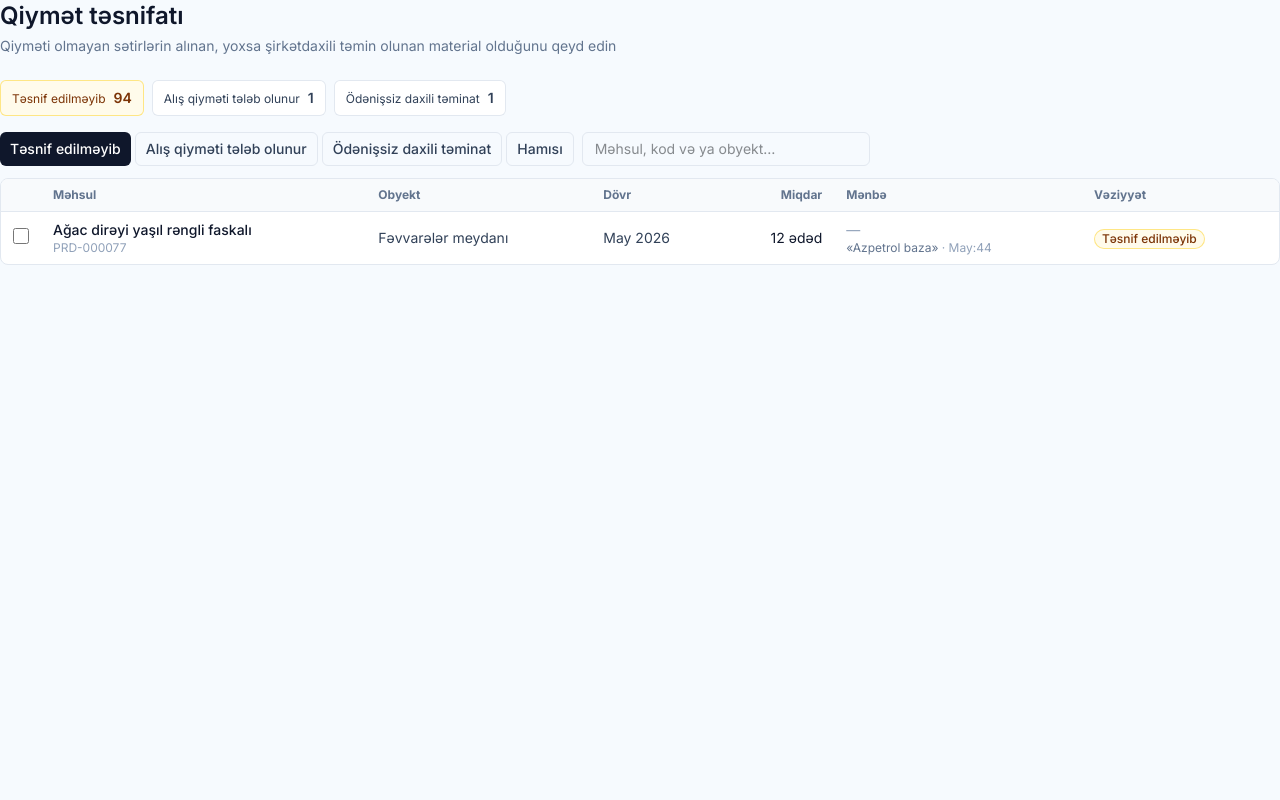
Test: deciding › names the lines before changing anything about them
This screenshot has width=1280, height=800.
Click the checkbox named "Ağac dirəyi": (21, 236) [13, 228, 29, 244]
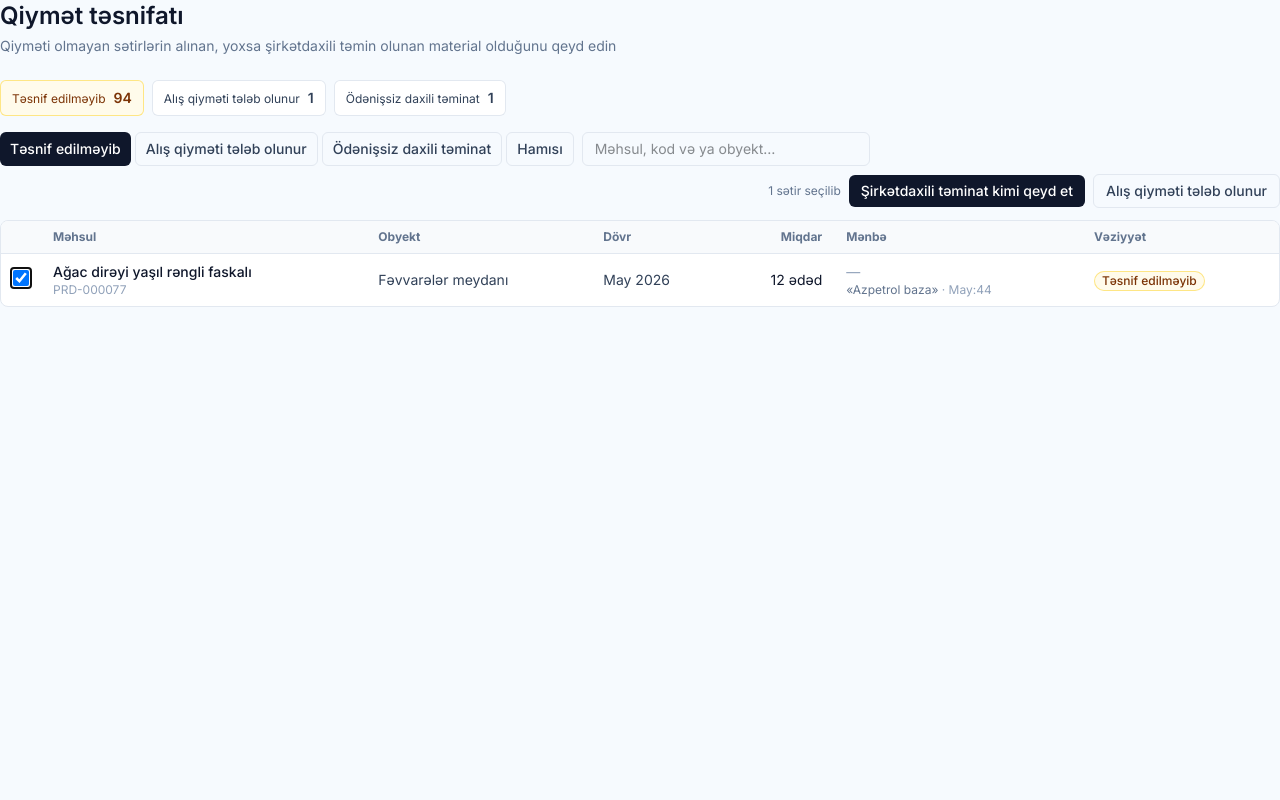
Click the button "Şirkətdaxili təminat kimi qeyd et": (967, 191) [849, 175, 1085, 207]
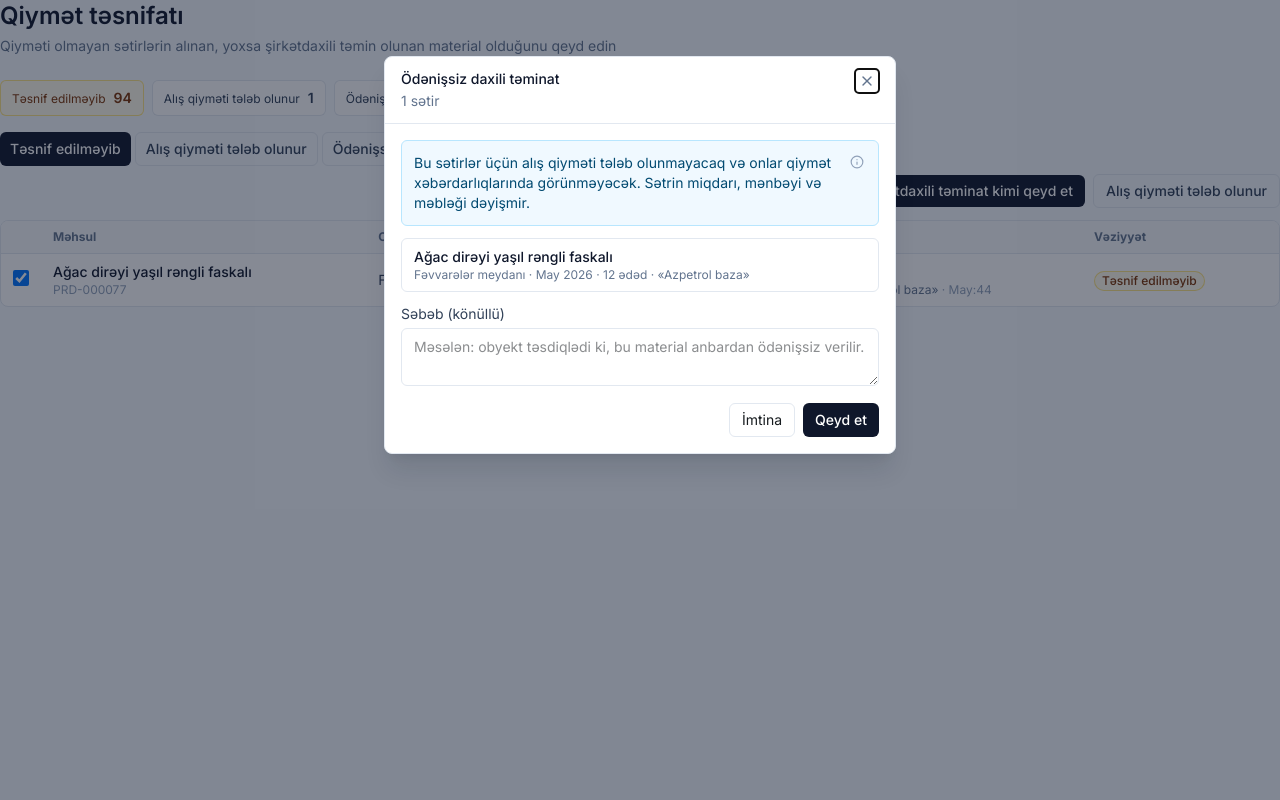
Check: the text "Ağac dirəyi yaşıl rəngli faskalı" is shown, box [414, 248, 613, 265]
Check: the text "qiymət xəbərdarlıqlarında görünməyəcək" is shown, box [414, 154, 831, 211]
